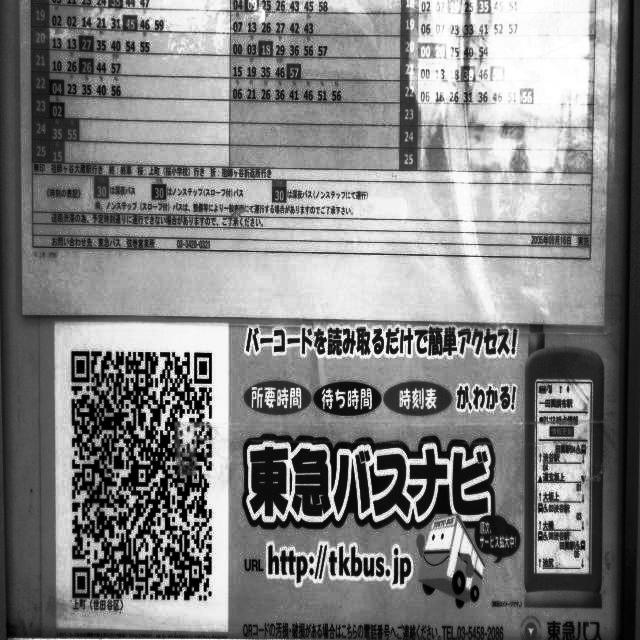qr_code: (72, 351, 212, 600)
